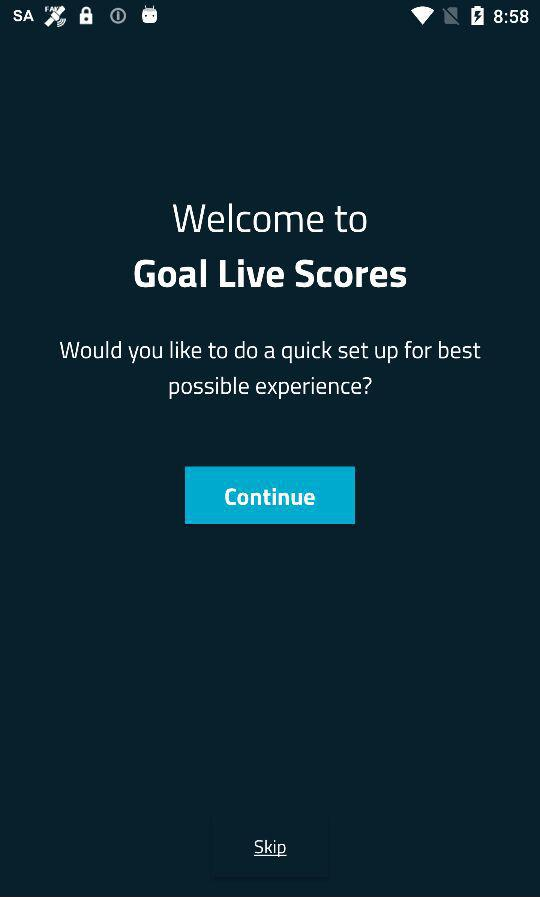Text: (60, 339, 482, 401), (134, 259, 408, 290), (172, 202, 368, 234), (254, 839, 288, 858)
TextButton: (185, 466, 356, 525)
UpperTaskBar: (1, 1, 540, 33)
